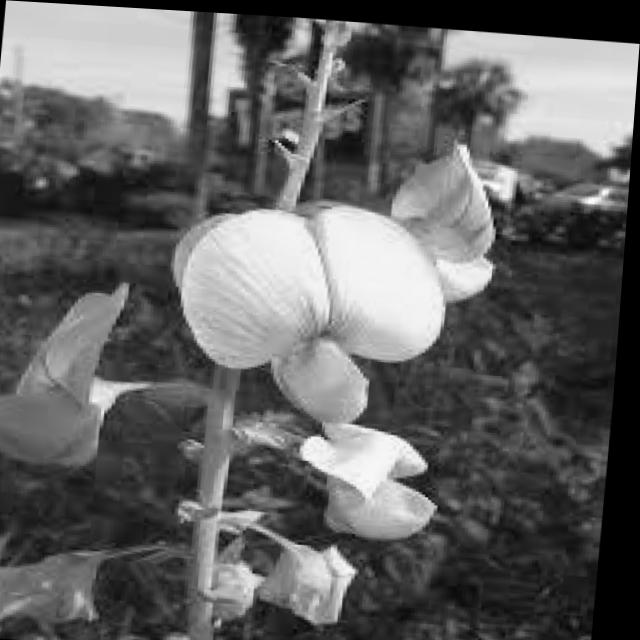Flower: (162, 180, 466, 424), (0, 257, 137, 473), (368, 128, 520, 309), (299, 410, 463, 526), (254, 526, 384, 635)
